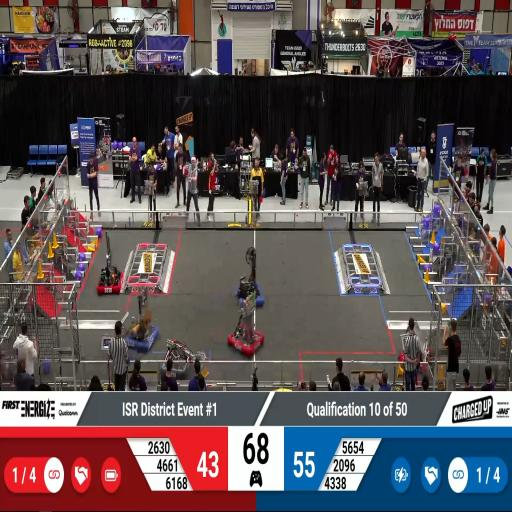robot: (122, 297, 162, 352), (232, 252, 266, 309), (396, 332, 436, 377), (230, 312, 266, 360), (160, 333, 194, 379), (95, 250, 124, 299)
